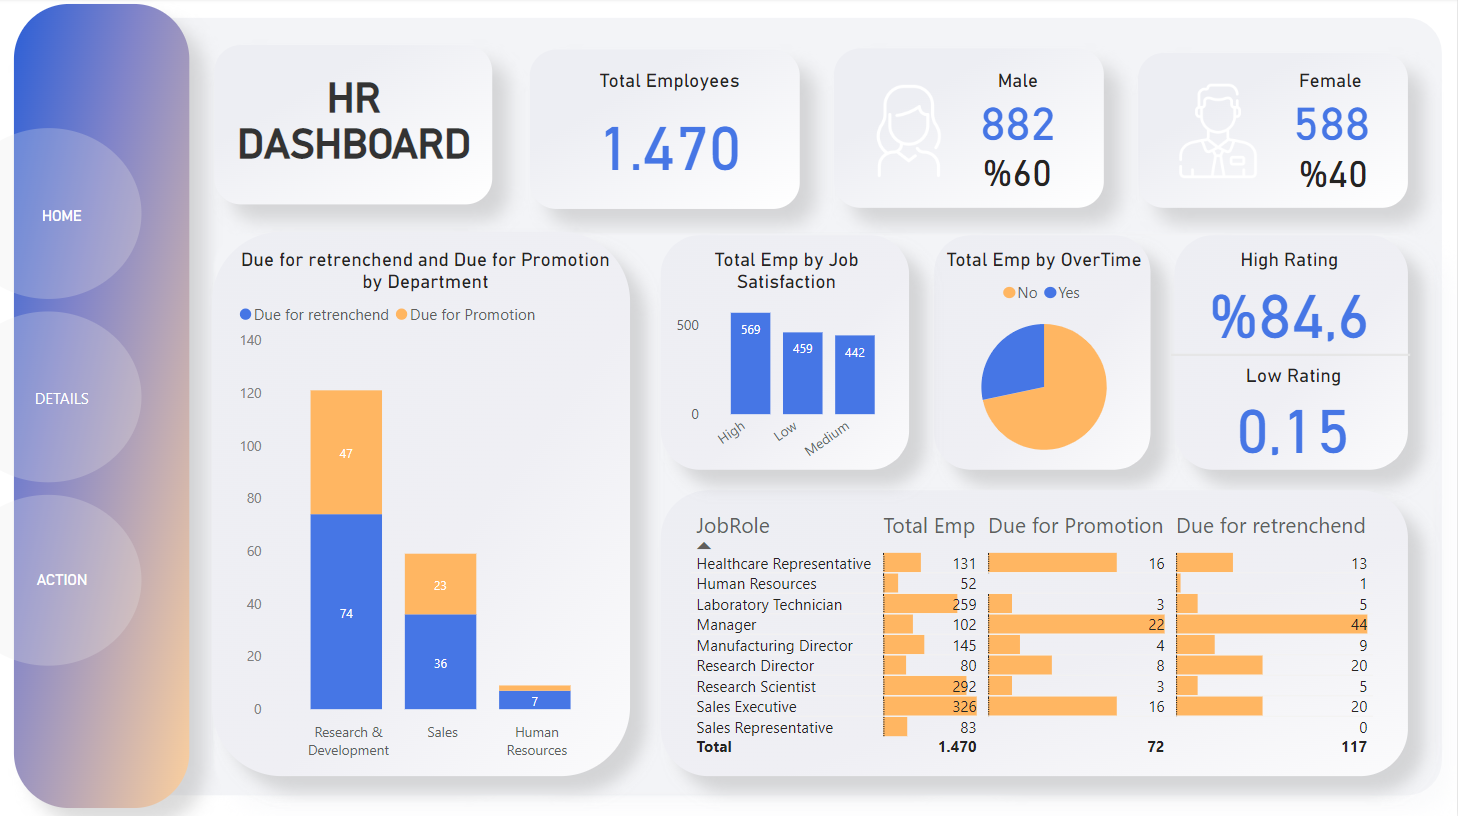

What the dashboard file says about the page in this screenshot:
{"tool":"powerbi","page":{"name":"DETAILS","canvas":[1280,720],"ordinal":1},"visuals":[{"type":"columnChart","fields":{"Category":["HR Analytics Data.Department"],"Y":["All Measures.Due for retrenchend","All Measures.Due for Promotion"]},"box":[205.5,219.5,338,455.7],"z":0},{"type":"columnChart","fields":{"Category":["HR Analytics Data.Job Satisfaction"],"Y":["All Measures.Total Emp"]},"box":[589.2,219.5,204.6,203.7],"z":1000},{"type":"pieChart","fields":{"Y":["All Measures.Total Emp"],"Category":["HR Analytics Data.OverTime"]},"box":[823.6,219.5,187.9,195.8],"z":2000},{"type":"tableEx","fields":{"Values":["HR Analytics Data.JobRole","All Measures.Total Emp","All Measures.Due for Promotion","All Measures.Due for retrenchend"]},"box":[601.5,445.2,618.1,230],"z":3000},{"type":"shape","box":[1029.1,307.3,209.9,12.3],"z":4000},{"type":"card","title":"Low Rating","fields":{"Values":["All Measures.% Low emp rating"]},"box":[1064.2,321.4,144.9,85.2],"z":5000},{"type":"card","title":"High Rating","fields":{"Values":["All Measures.% High emp rating"]},"box":[1057.2,219.5,151.9,86.9],"z":6000},{"type":"card","title":"Total Employees","fields":{"Values":["All Measures.Total Emp"]},"box":[510.1,62.3,157.2,106.2],"z":7000},{"type":"card","title":"Male","fields":{"Values":["All Measures.Male"]},"box":[830.6,62.3,128.2,69.4],"z":8000},{"type":"card","title":"Female","fields":{"Values":["All Measures.Female"]},"box":[1102.8,62.3,132.6,69.4],"z":9000},{"type":"card","fields":{"Values":["All Measures.% Male"]},"box":[855.2,127.3,78.1,48.3],"z":10000},{"type":"card","fields":{"Values":["All Measures.% Female"]},"box":[1132.7,127.3,78.1,49.2],"z":11000},{"type":"pageNavigator","box":[6.1,116.8,98.3,470.6],"z":12000},{"type":"textbox","title":"HR DASHBOARD","box":[197.6,65.9,228.3,109.8],"z":13000},{"type":"image","box":[756,65.9,96.6,93.1],"z":13001},{"type":"image","box":[1030,62.3,91.3,96.6],"z":13002}]}

Visuals, with their boxes in screenshot pixels (x1, y1, x2, y2), scaled from the page's 1280x720 canvas onto the 1458x816 screenshot:
columnChart - HR Analytics Data.Department x All Measures.Due for retrenchend: <region>234, 249, 619, 765</region>
columnChart - HR Analytics Data.Job Satisfaction x All Measures.Total Emp: <region>671, 249, 904, 480</region>
pieChart - All Measures.Total Emp x HR Analytics Data.OverTime: <region>938, 249, 1152, 471</region>
tableEx - HR Analytics Data.JobRole x All Measures.Total Emp: <region>685, 505, 1389, 765</region>
shape: <region>1172, 348, 1411, 362</region>
"Low Rating" card: <region>1212, 364, 1377, 461</region>
"High Rating" card: <region>1204, 249, 1377, 347</region>
"Total Employees" card: <region>581, 71, 760, 191</region>
"Male" card: <region>946, 71, 1092, 149</region>
"Female" card: <region>1256, 71, 1407, 149</region>
card - All Measures.% Male: <region>974, 144, 1063, 199</region>
card - All Measures.% Female: <region>1290, 144, 1379, 200</region>
pageNavigator: <region>7, 132, 119, 666</region>
"HR DASHBOARD" textbox: <region>225, 75, 485, 199</region>
image: <region>861, 75, 971, 180</region>
image: <region>1173, 71, 1277, 180</region>
